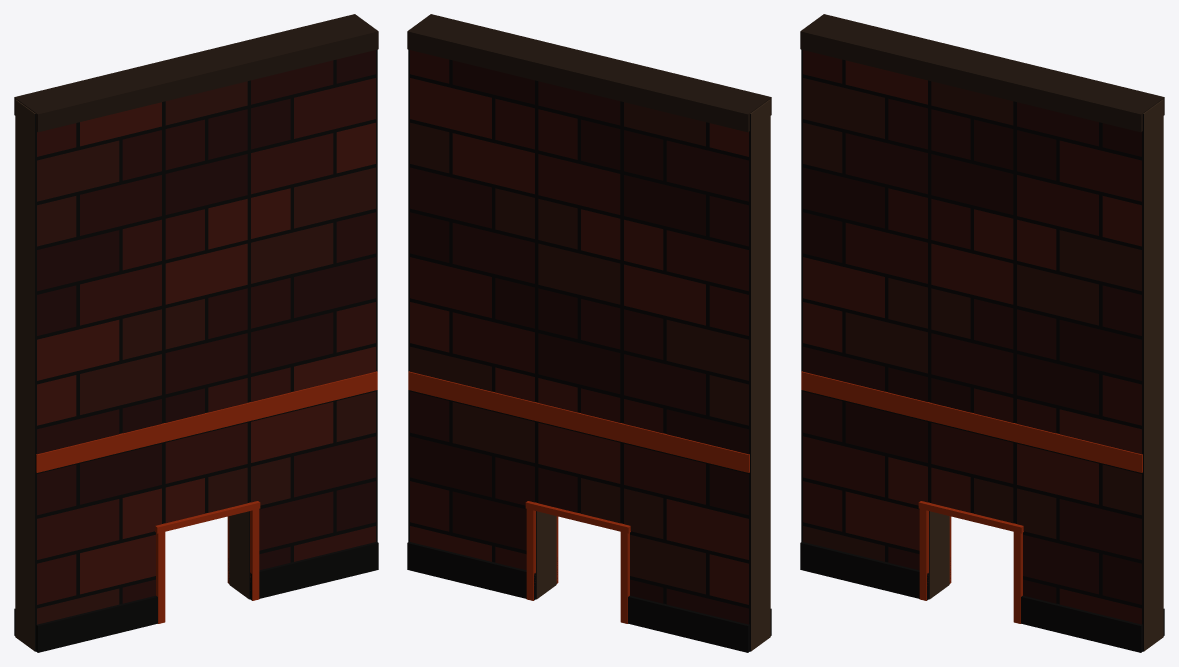
Rendered from SM_Wall_RatHole_2x3_Hideout.glb.
3 renders of one model, left to right at view 1: azimuth 30°, elevation 25°; view 2: azimuth 150°, elevation 25°; view 3: azimuth 330°, elevation 25°, orthographic.
Visible parts, largest first — view 1: SM_Wall_RatHole_2x3_Hideout-col; view 2: SM_Wall_RatHole_2x3_Hideout-col; view 3: SM_Wall_RatHole_2x3_Hideout-col.
Boxes of the visible parts, x1,y1,x2,y2 form: SM_Wall_RatHole_2x3_Hideout-col: (14,14,378,652); SM_Wall_RatHole_2x3_Hideout-col: (407,14,771,652); SM_Wall_RatHole_2x3_Hideout-col: (800,14,1164,652).
Size of the model in its own units: 2 by 3 by 0.25.
